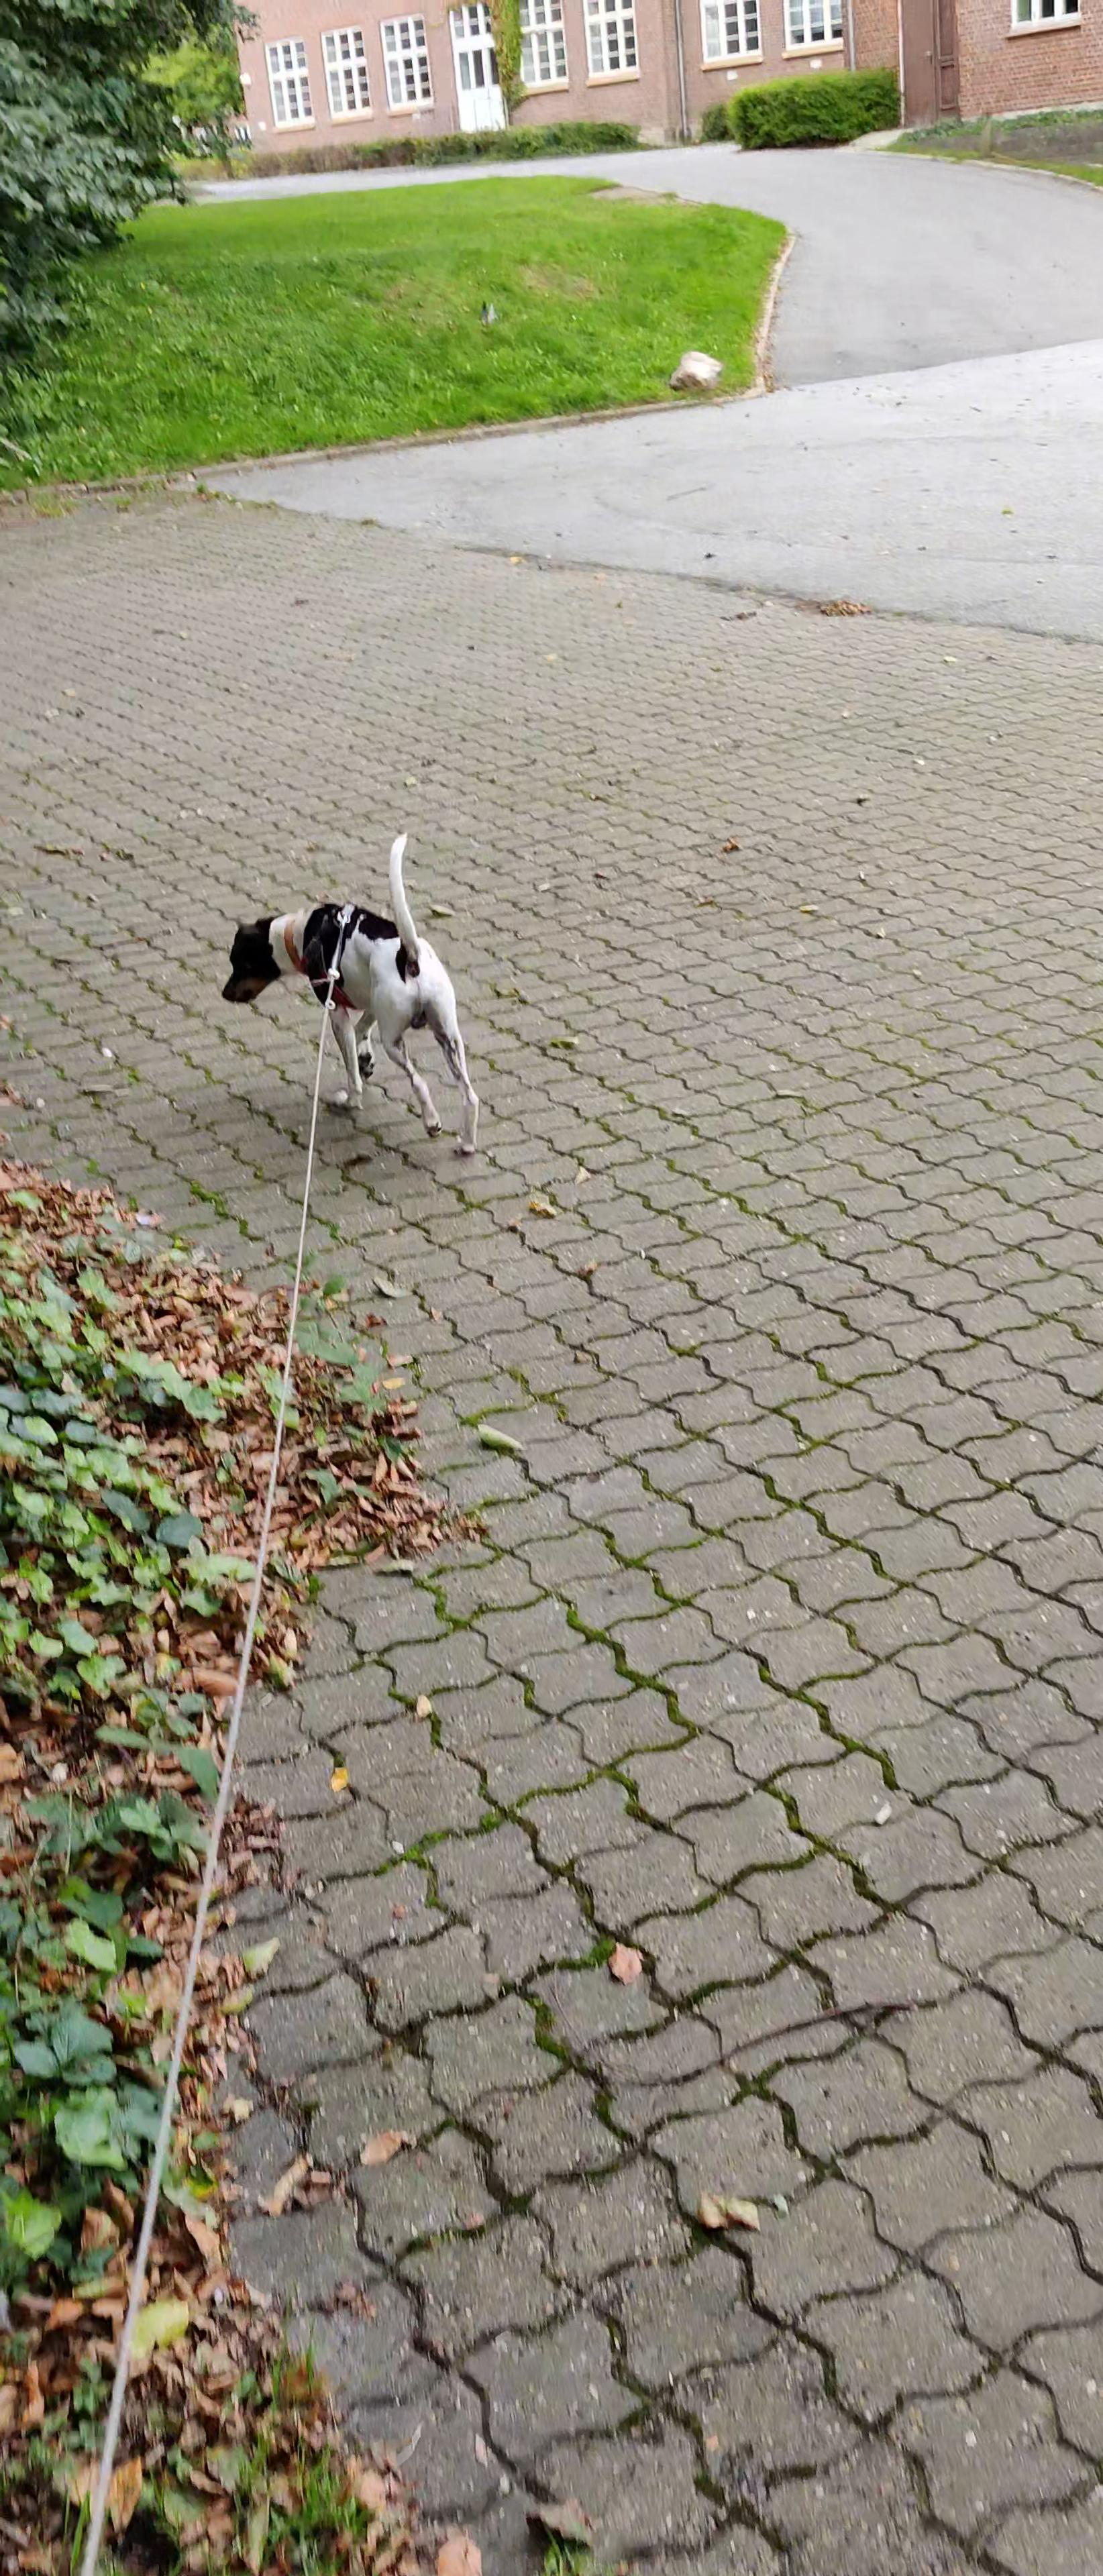Dog: (219, 823, 487, 1175)
